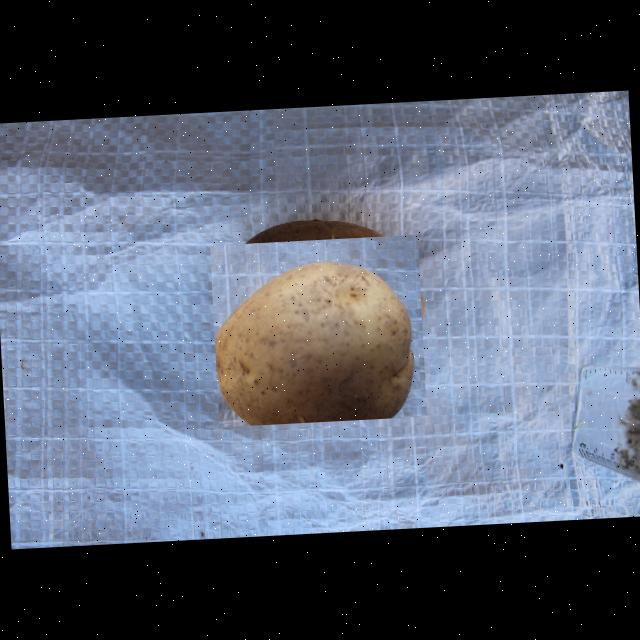Diseased-fungal potato: (210, 235, 427, 428)
